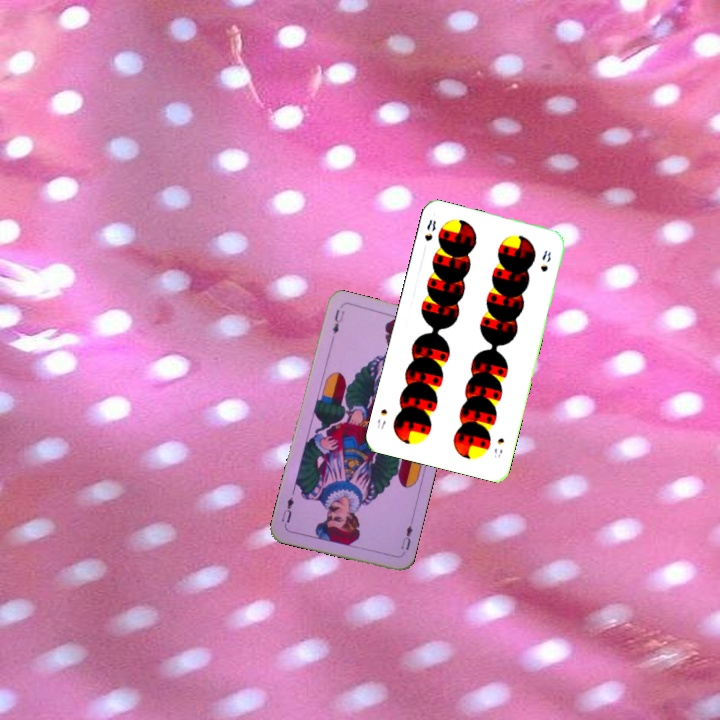EU: (397, 516, 415, 553), (328, 305, 346, 337)
S8: (420, 216, 439, 244), (490, 434, 507, 460)
